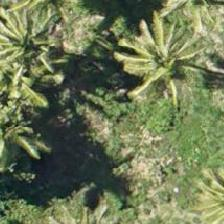coconut_tree: (116, 10, 206, 100), (0, 4, 70, 94)
